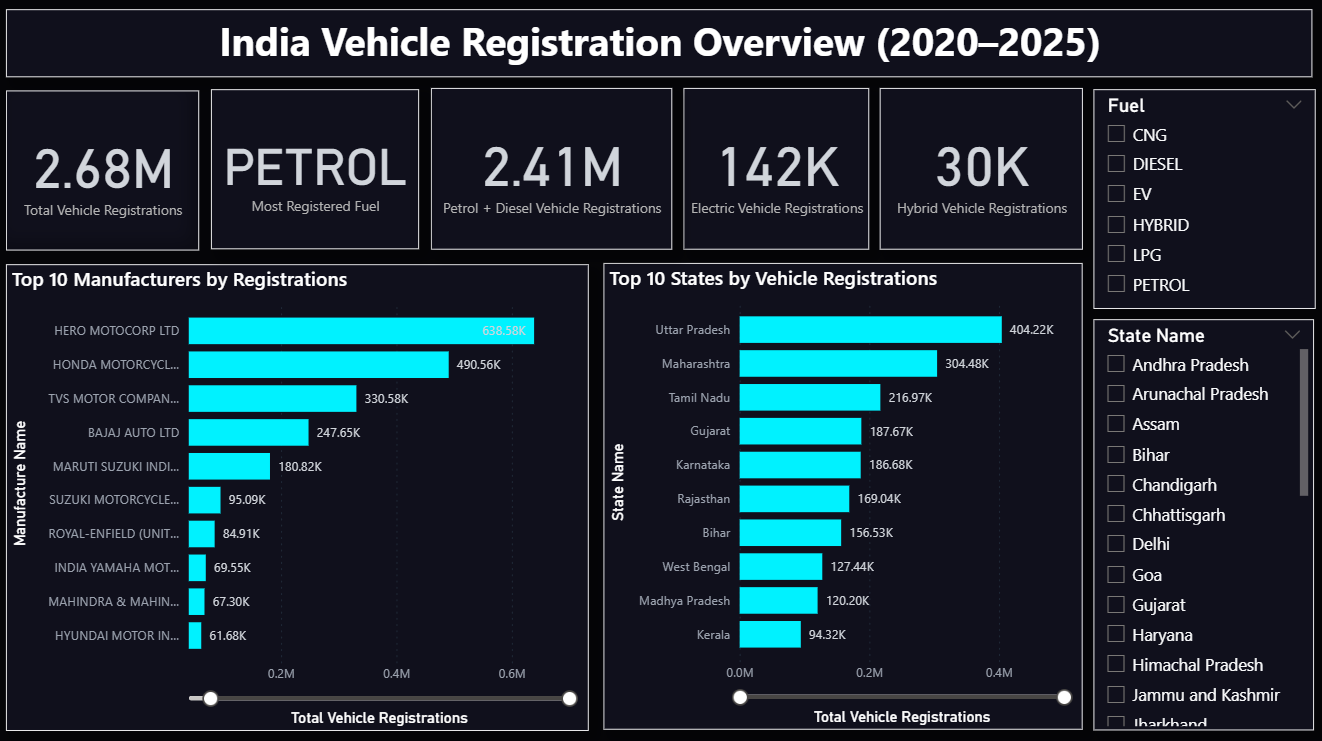

What the dashboard file says about the page in this screenshot:
{"tool":"powerbi","page":{"name":"India Vehicle Registration Overview","canvas":[1280,720],"ordinal":0},"visuals":[{"type":"textbox","box":[9.7,11,1261,69.7],"z":0},{"type":"card","fields":{"Values":["_measures.Total Vehicles"]},"box":[9.5,88.2,234.5,161.4],"z":1000},{"type":"card","fields":{"Values":["_measures.EV Vehicles (Display)"]},"box":[689.5,88.2,179.5,161.4],"z":2000},{"type":"card","fields":{"Values":["_measures.Hybrid Vehicles (Display)"]},"box":[875,88.2,178.2,161.4],"z":3000},{"type":"barChart","title":"Top 10 States by Vehicle Registrations","fields":{"Category":["vehicle_registrations_500k.stateName"],"Y":["_measures.Total Vehicles"]},"box":[581.8,256.5,471.2,450],"z":4000},{"type":"barChart","title":"Top 10 Manufacturers by Registrations","fields":{"Category":["vehicle_registrations_500k.makerName"],"Y":["_measures.Total Vehicles"]},"box":[9.7,256.7,565.7,450],"z":5000},{"type":"slicer","fields":{"Values":["vehicle_registrations_500k.FuelClean"]},"box":[1058.7,88.3,214.5,211.7],"z":6000},{"type":"slicer","fields":{"Values":["vehicle_registrations_500k.stateName"]},"box":[1058.7,309.9,213.1,396.8],"z":7000},{"type":"card","fields":{"Values":["_measures.ICE Vehicles (Display)"]},"box":[452.7,88.2,231.4,161.4],"z":8000},{"type":"card","fields":{"Values":["_measures.Top Fuel Type"]},"box":[247.7,88.2,197.3,161.4],"z":9000}]}

Visuals, with their boxes in screenshot pixels (x1, y1, x2, y2), scaled from the page's 1280x720 canvas onto the 1322x741 screenshot:
textbox: x1=10 y1=11 x2=1312 y2=83
card - _measures.Total Vehicles: x1=10 y1=91 x2=252 y2=257
card - _measures.EV Vehicles (Display): x1=712 y1=91 x2=898 y2=257
card - _measures.Hybrid Vehicles (Display): x1=904 y1=91 x2=1088 y2=257
"Top 10 States by Vehicle Registrations" barChart: x1=601 y1=264 x2=1088 y2=727
"Top 10 Manufacturers by Registrations" barChart: x1=10 y1=264 x2=594 y2=727
slicer - vehicle_registrations_500k.FuelClean: x1=1093 y1=91 x2=1315 y2=309
slicer - vehicle_registrations_500k.stateName: x1=1093 y1=319 x2=1314 y2=727
card - _measures.ICE Vehicles (Display): x1=468 y1=91 x2=707 y2=257
card - _measures.Top Fuel Type: x1=256 y1=91 x2=460 y2=257
